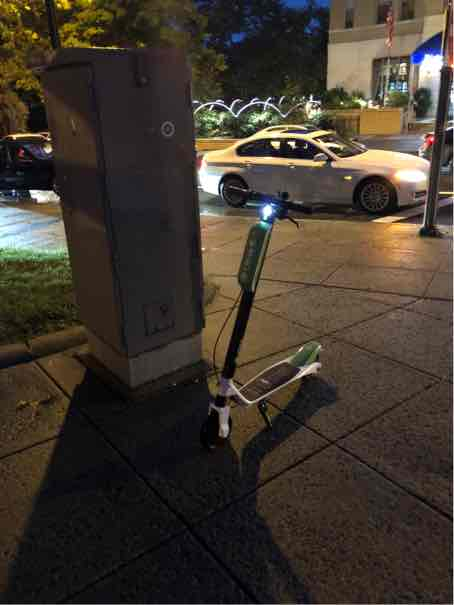scooter: (194, 175, 328, 463)
